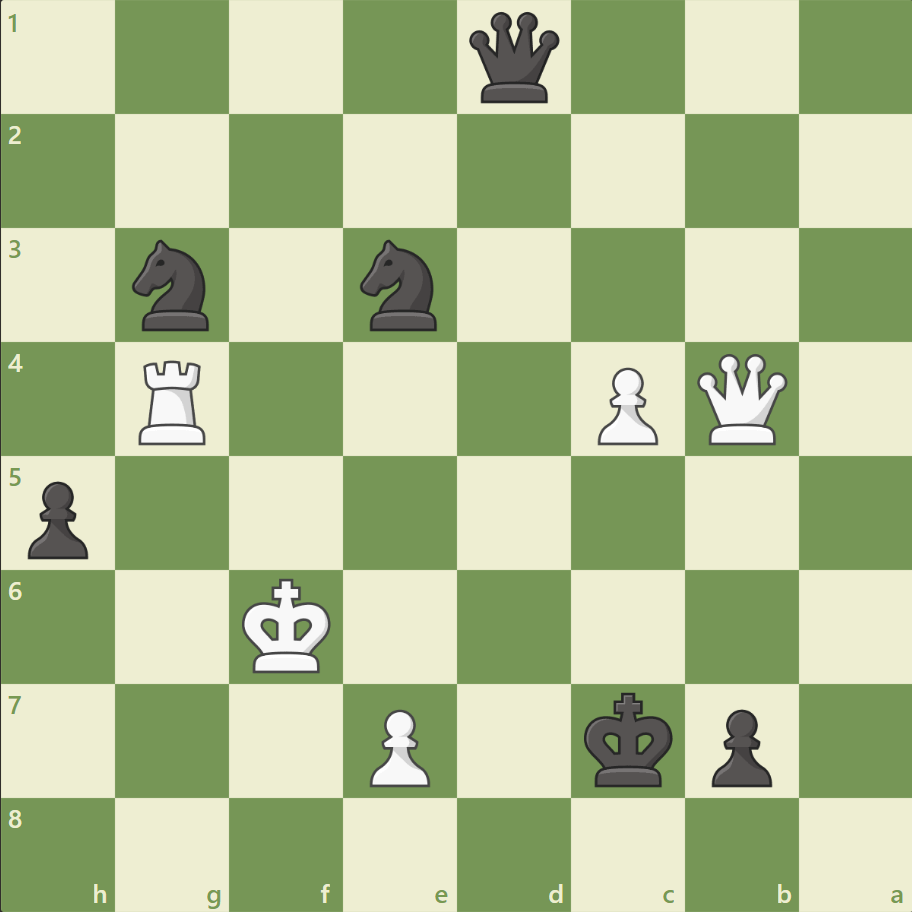K: (238, 571, 338, 679)
P: (361, 700, 435, 791), (588, 359, 662, 450)
Q: (691, 349, 790, 449)
R: (133, 352, 215, 449)
k: (579, 685, 679, 793)
n: (351, 234, 449, 337), (124, 234, 222, 337)
p: (701, 700, 776, 791), (20, 473, 95, 564)
q: (464, 9, 563, 108)
